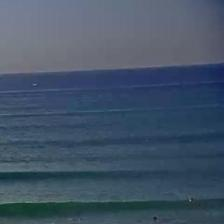surfer: (152, 216, 158, 222), (189, 198, 195, 203)
